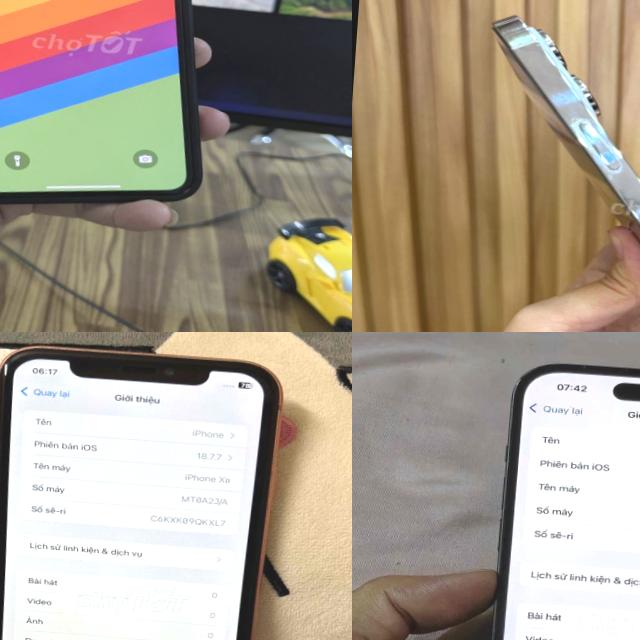gen_11: (0, 0, 246, 228)
gen_14: (465, 2, 640, 332), (465, 350, 640, 640)
gen_x_xs: (0, 338, 288, 640)
